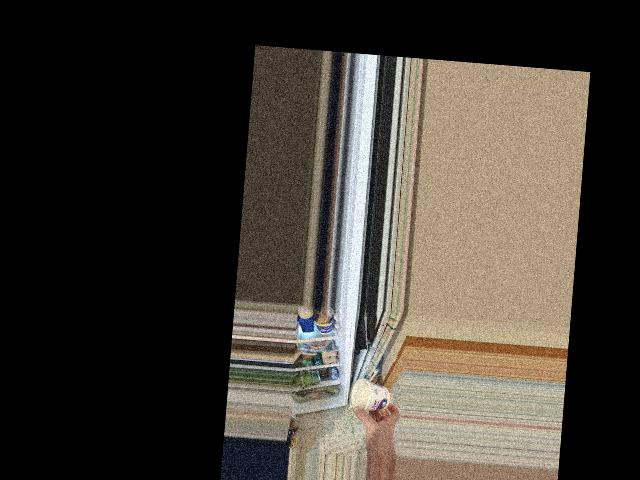cotage: (349, 379, 394, 415)
